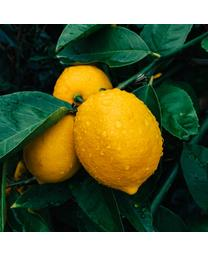lemon: (75, 88, 163, 194), (22, 111, 79, 184), (52, 67, 113, 111)
